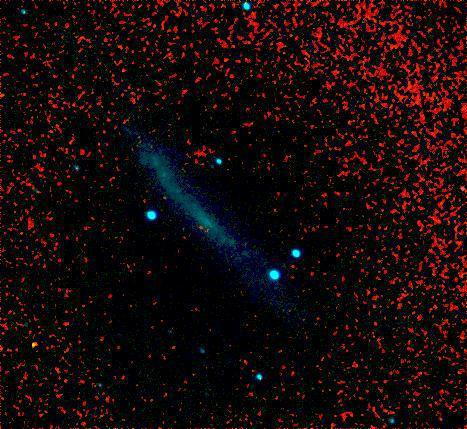star: (18, 331, 48, 361)
